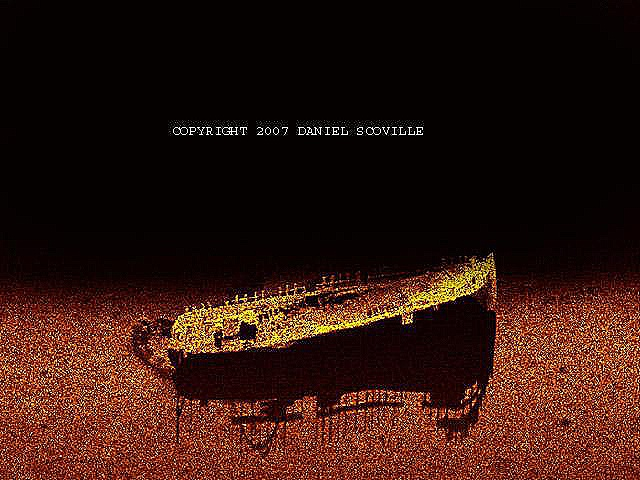ship: (163, 249, 499, 365)
